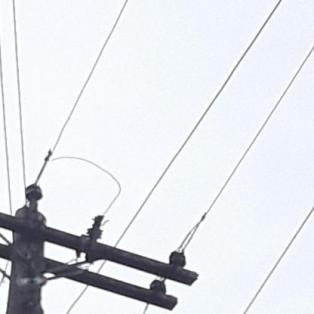Poste: (0, 197, 55, 314)
